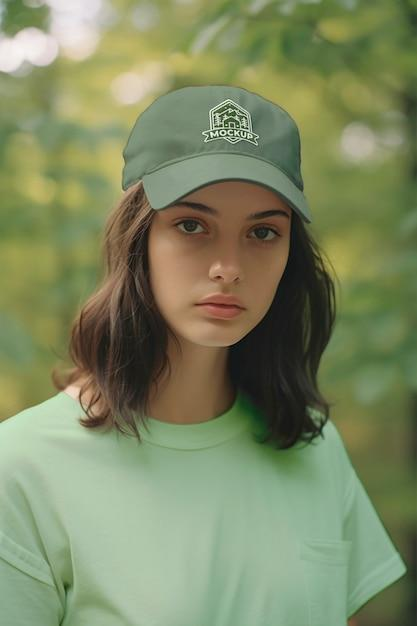cap: (110, 57, 337, 232)
